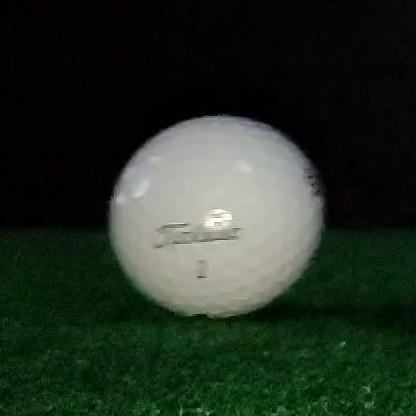golfball: (111, 117, 323, 317)
